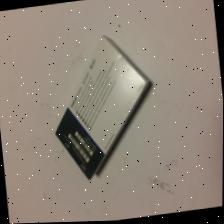paper: (44, 22, 162, 188)
